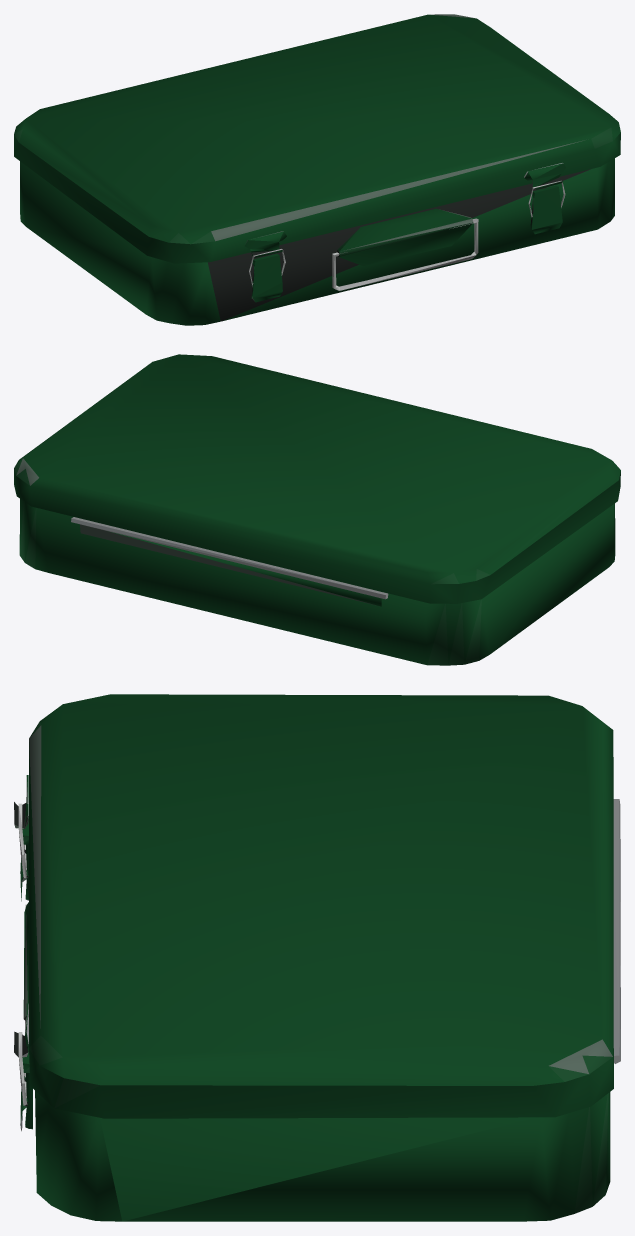
Rendered from medical-box.glb.
3 views of the same model, one above another, from view 1: azimuth 30°, elevation 25°; view 2: azimuth 150°, elevation 25°; view 3: azimuth 270°, elevation 25° (orthographic). The views are drawn at different scales.
Parts seen in each view (by area): view 1: medical-box; view 2: medical-box; view 3: medical-box.
Boxes of the visible parts, box(x1,y1,x2,y2) form: medical-box: box(14, 14, 620, 325); medical-box: box(14, 354, 620, 665); medical-box: box(14, 694, 620, 1221).
Size of the model in its own units: 0.525 by 0.0974 by 0.3497.
